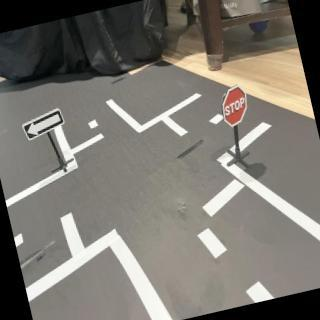sign_oneway_left: (21, 107, 69, 143)
sign_stop: (217, 84, 253, 129)
